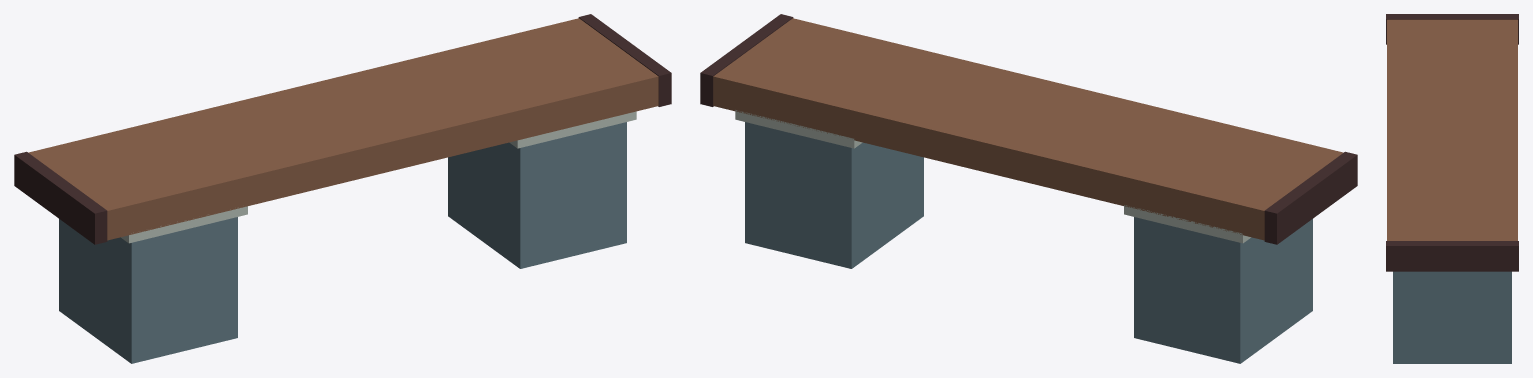
File: stone_bench.glb
3 views of the same model, side by side, from view 1: azimuth 30°, elevation 25°; view 2: azimuth 150°, elevation 25°; view 3: azimuth 270°, elevation 25° (orthographic). The views are drawn at different scales.
Visible parts, largest first — view 1: StoneBench / Cedar, StoneBench / Stone, StoneBench / Timber, StoneBench / Coping; view 2: StoneBench / Cedar, StoneBench / Stone, StoneBench / Timber, StoneBench / Coping; view 3: StoneBench / Cedar, StoneBench / Stone, StoneBench / Timber.
Part boxes in pixels (x1=…): StoneBench / Cedar: x1=28, y1=18, x2=658, y2=240; StoneBench / Stone: x1=59, y1=122, x2=626, y2=363; StoneBench / Timber: x1=14, y1=14, x2=671, y2=244; StoneBench / Coping: x1=121, y1=111, x2=636, y2=243; StoneBench / Cedar: x1=713, y1=18, x2=1343, y2=240; StoneBench / Stone: x1=745, y1=122, x2=1312, y2=363; StoneBench / Timber: x1=700, y1=14, x2=1357, y2=244; StoneBench / Coping: x1=735, y1=110, x2=1250, y2=243; StoneBench / Cedar: x1=1387, y1=19, x2=1517, y2=240; StoneBench / Stone: x1=1393, y1=271, x2=1511, y2=363; StoneBench / Timber: x1=1386, y1=14, x2=1518, y2=271.
Size of the model in its own units: 1.84 by 0.4975 by 0.445.
